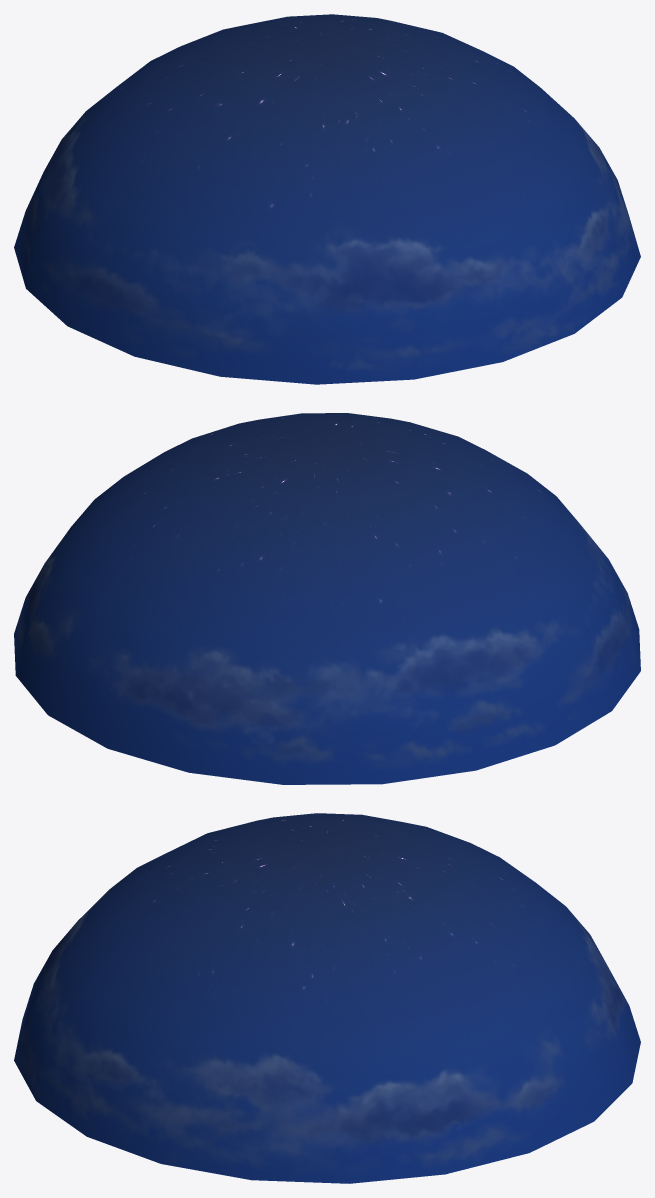
The model's file is Sky Night - New Moon.fbx.
3 views of the same model, one above another, from view 1: azimuth 30°, elevation 25°; view 2: azimuth 150°, elevation 25°; view 3: azimuth 270°, elevation 25° (orthographic).
Visible parts, largest first — view 1: sky; view 2: sky; view 3: sky.
Part boxes in pixels (x1,y1,x2,y2): sky: (14,14,640,384); sky: (14,413,640,784); sky: (14,813,640,1183).
Size of the model in its own units: 985 by 356 by 985.
